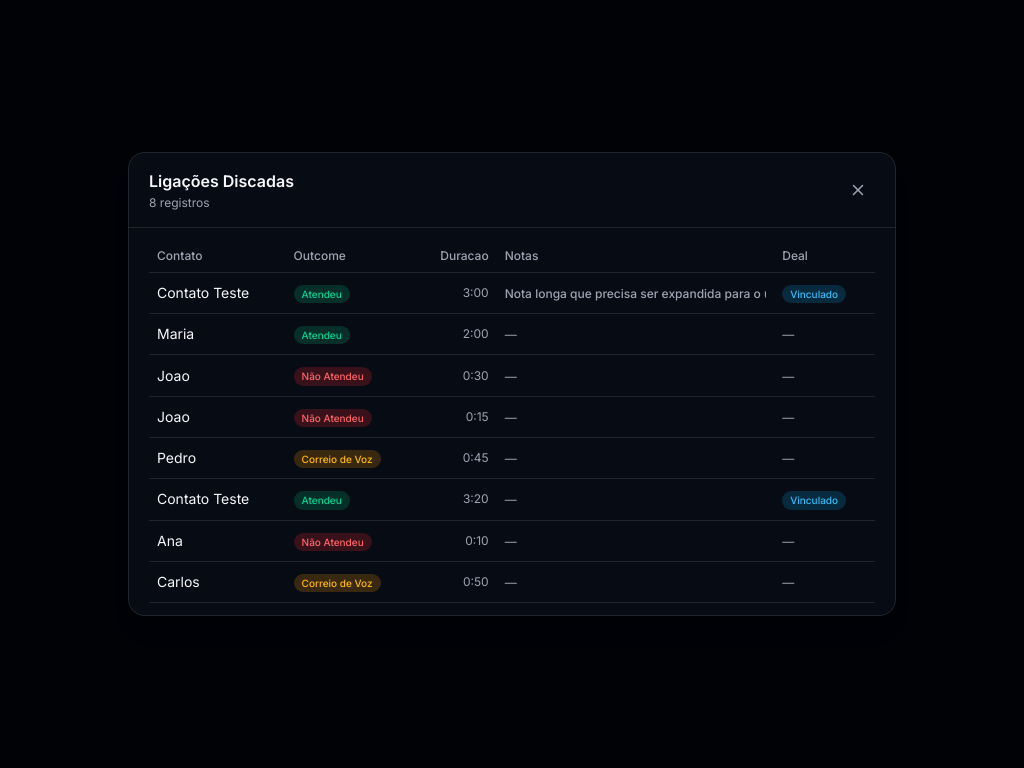
Test case: MetricsDrilldownModal — expandable notes (CP-5.4) › toggles expand on click
Step 1. Click the button with aria-label "Expandir notas" → coordinates (636, 294), box [505, 286, 766, 302]
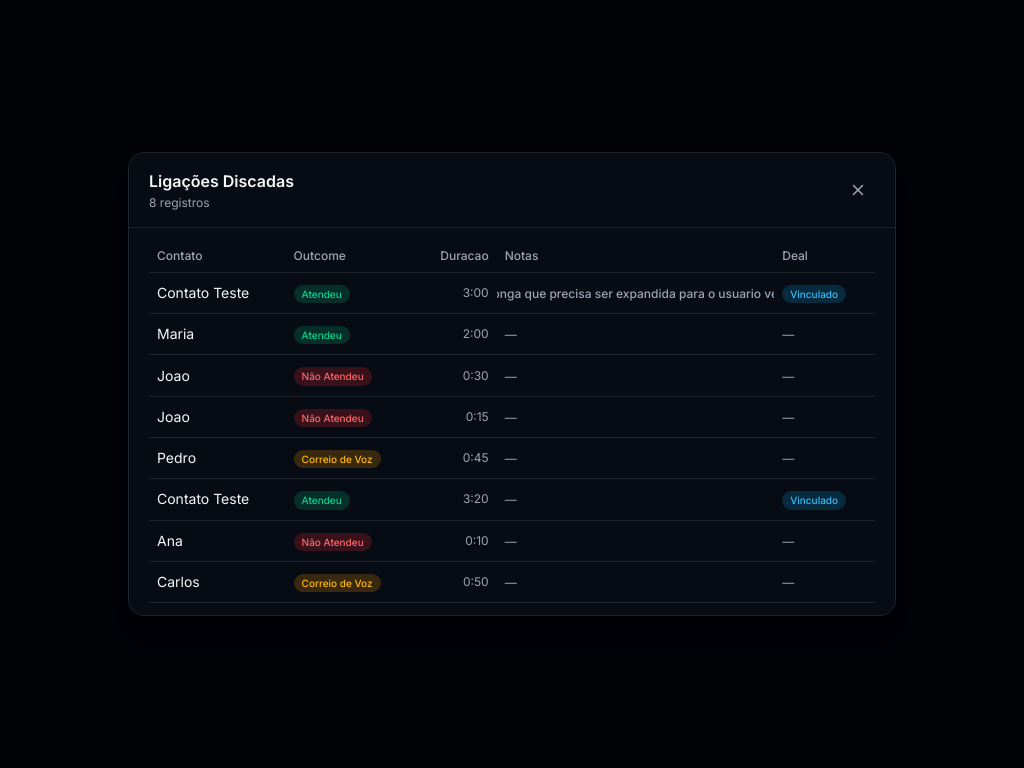
Expected: the button with aria-label "Recolher notas" is shown, [505, 286, 766, 302]
